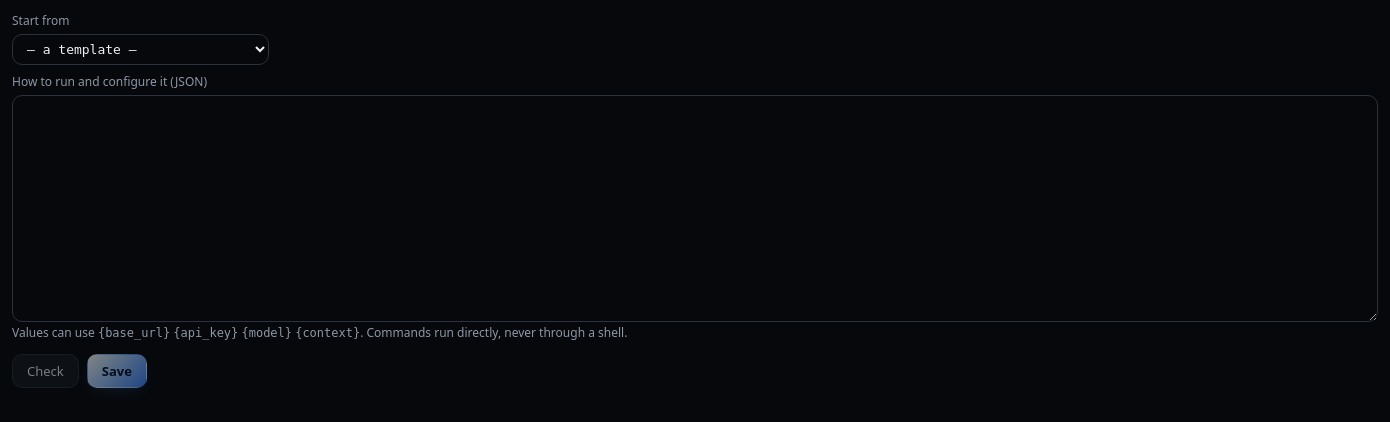
Test: CustomAgentForm › invalid JSON never reaches the server
Click the text box labelled "How to run and configure it (JSON)": [695, 208] box [12, 95, 1378, 322]
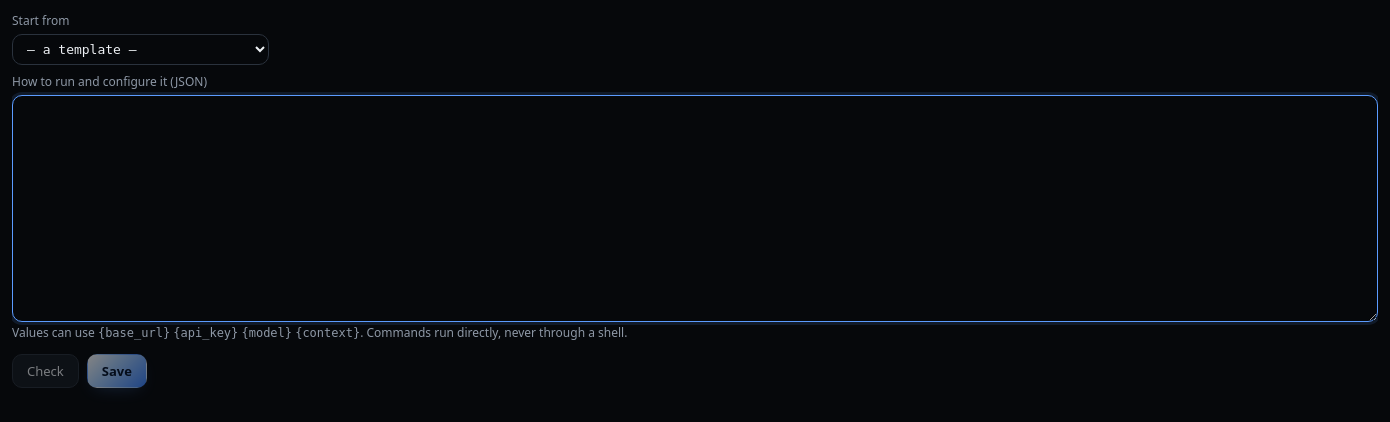
Type keys "{nope"
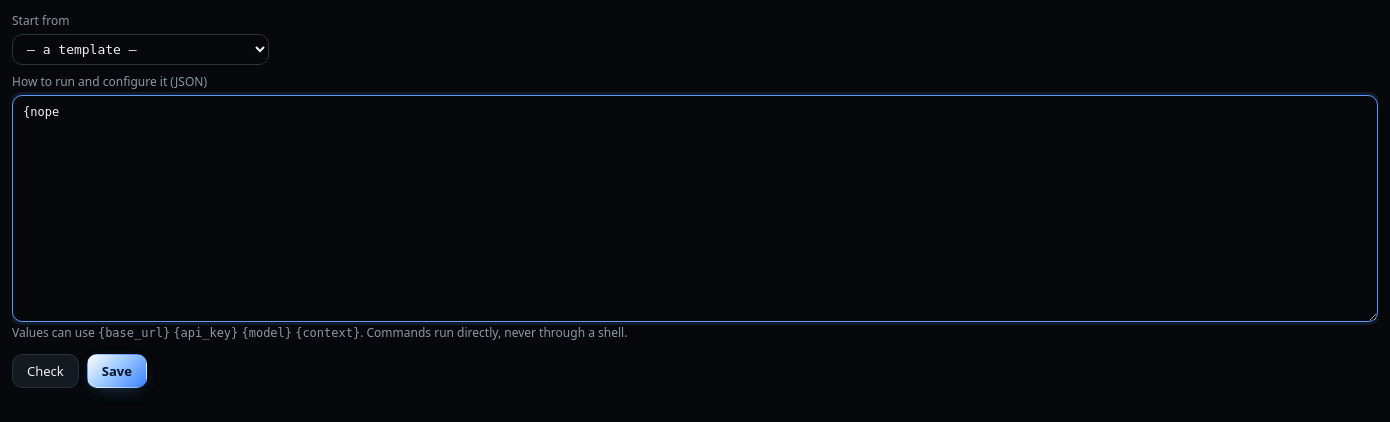
Click the button "Check": [45, 371] box [12, 354, 79, 388]
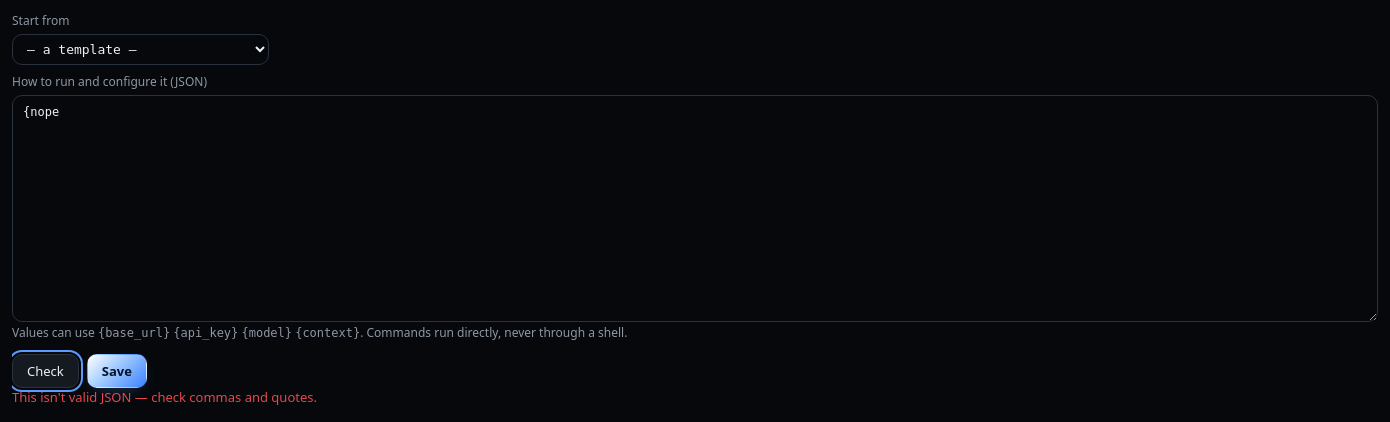
Expected: the text "This isn't valid JSON — check commas and quotes." is shown, [12, 388, 317, 406]
